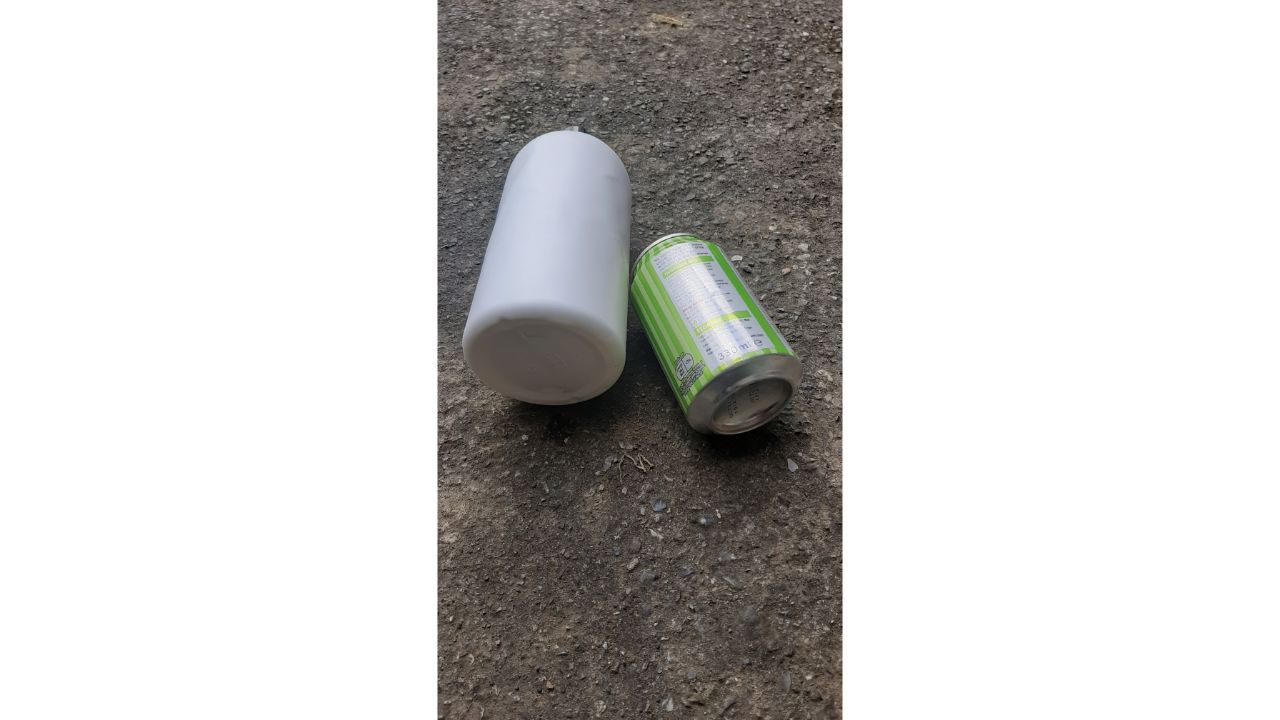Can: (628, 224, 814, 451)
